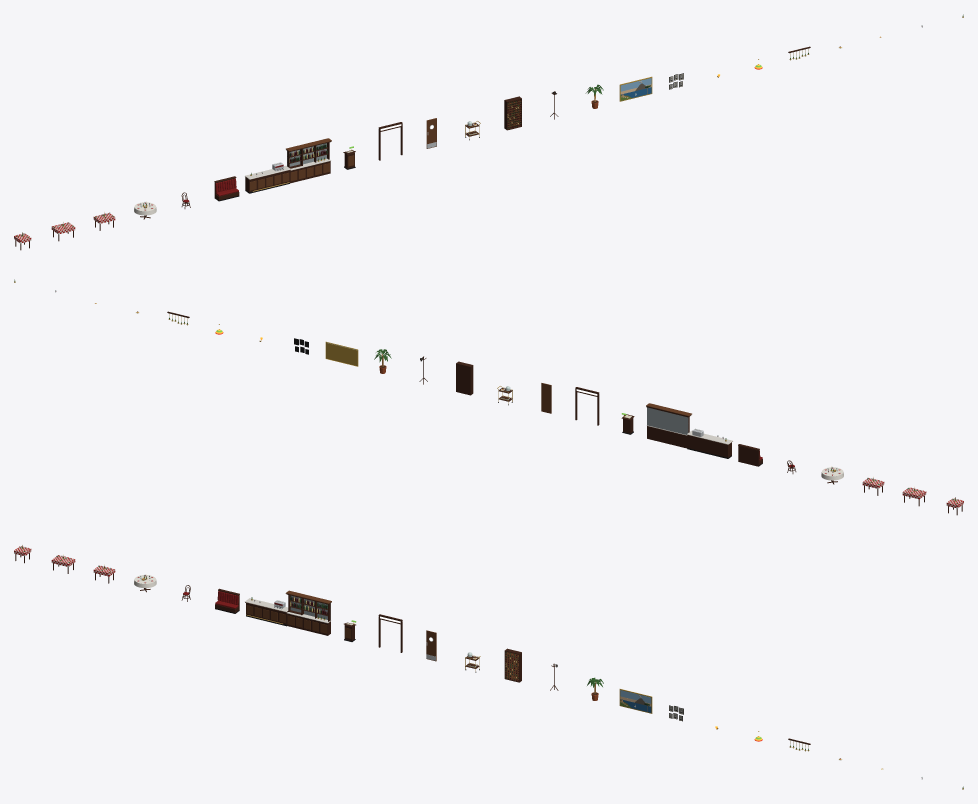
Rendered from Restaurant.glb.
The picture shows the model from 3 angles, top to bottom: view 1: azimuth 30°, elevation 25°; view 2: azimuth 150°, elevation 25°; view 3: azimuth 330°, elevation 25°; orthographic projection.
Visible parts, largest first — view 1: BackBar, Bar, Mural, WineRack; view 2: BackBar, Bar, Mural, WineRack; view 3: BackBar, Bar, Mural, WineRack.
Part boxes in pixels (bbox=[...]): BackBar: bbox=[286, 138, 331, 183]; Bar: bbox=[245, 162, 290, 193]; Mural: bbox=[619, 76, 652, 101]; WineRack: bbox=[504, 96, 521, 130]; BackBar: bbox=[646, 403, 691, 448]; Bar: bbox=[687, 428, 732, 458]; Mural: bbox=[325, 341, 358, 366]; WineRack: bbox=[456, 361, 473, 395]; BackBar: bbox=[285, 590, 331, 635]; Bar: bbox=[245, 597, 288, 626]; Mural: bbox=[619, 689, 652, 713]; WineRack: bbox=[504, 648, 521, 682].
Size of the model in its own units: 347 by 11.99 by 7.3.
